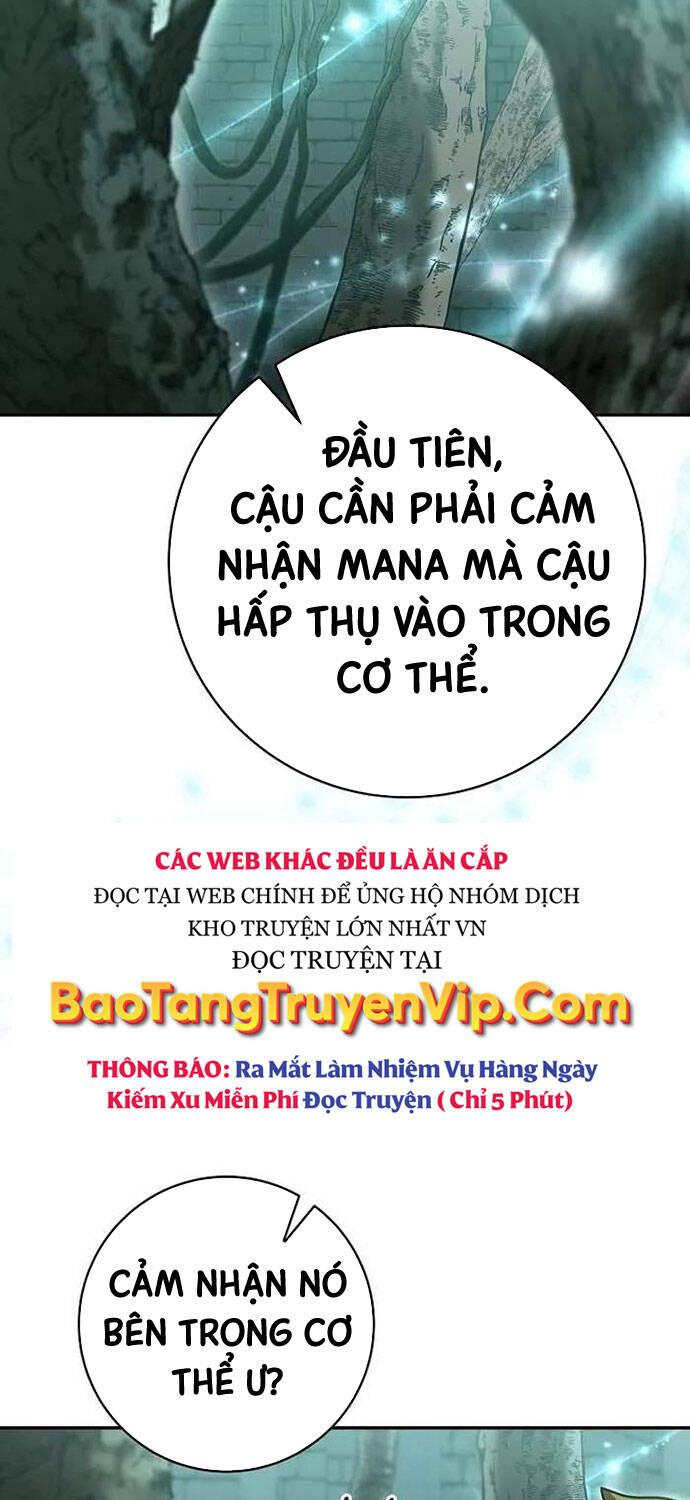quangcao: (36, 832, 648, 1138)
